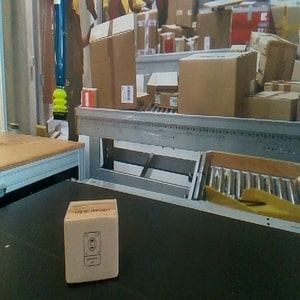box: (62, 197, 120, 284)
